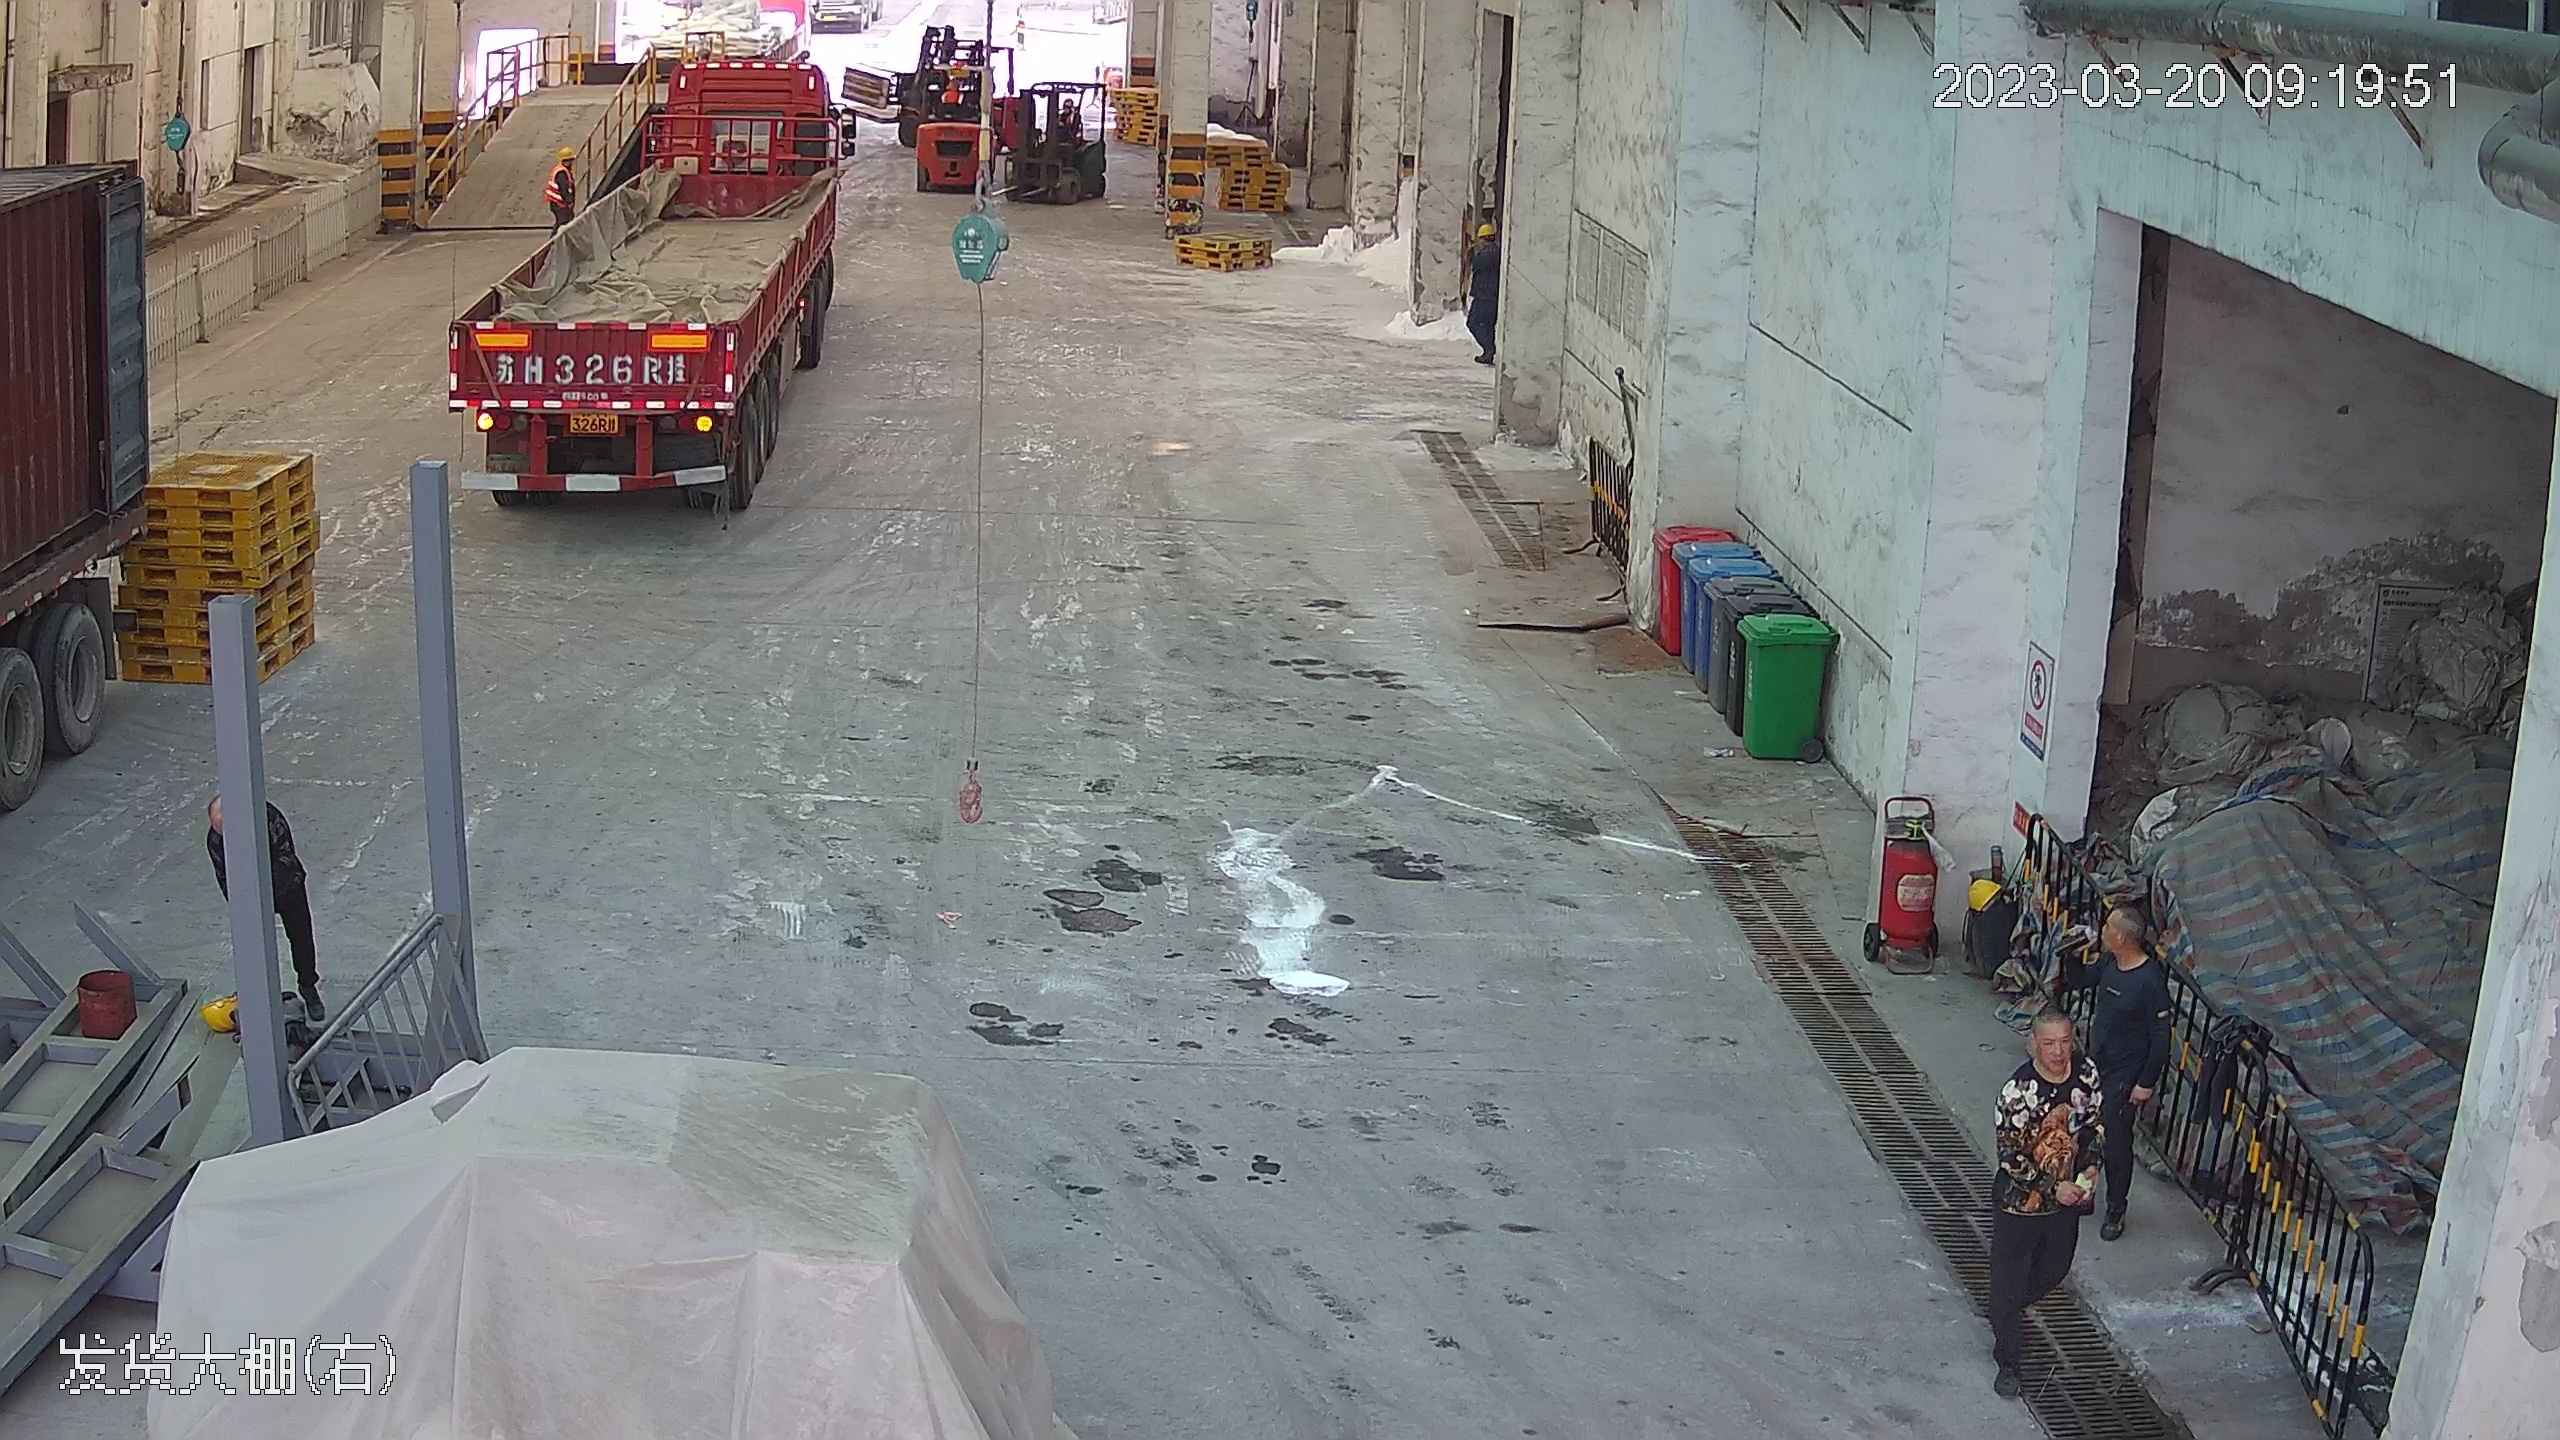head: (2090, 901, 2174, 1017), (2013, 1007, 2086, 1113), (1967, 869, 2031, 937), (1462, 216, 1506, 268), (547, 145, 580, 182)
helmet: (1967, 872, 2008, 912), (1470, 215, 1497, 241), (554, 143, 579, 165)
people: (1985, 1003, 2099, 1394), (2076, 889, 2176, 1249), (1456, 214, 1509, 369), (540, 144, 580, 223)
truck: (436, 22, 852, 523), (1, 27, 165, 905)
